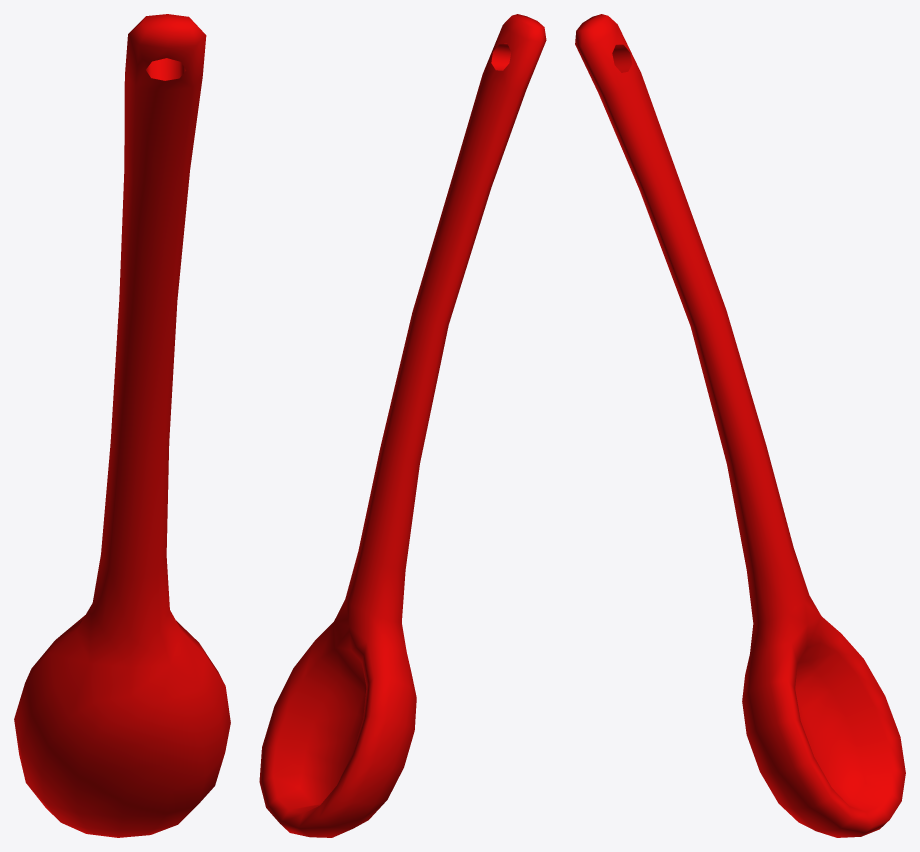
The model's file is Spoon.fbx.
3 renders of one model, left to right at view 1: azimuth 30°, elevation 25°; view 2: azimuth 150°, elevation 25°; view 3: azimuth 270°, elevation 25°, orthographic. The views are drawn at different scales.
Parts seen in each view (by area): view 1: Spoon; view 2: Spoon; view 3: Spoon.
Part boxes in pixels (bbox=[...]): Spoon: bbox=[14, 14, 230, 837]; Spoon: bbox=[259, 14, 546, 837]; Spoon: bbox=[575, 14, 905, 837].
Size of the model in its own units: 0.252 by 0.406 by 1.04.
